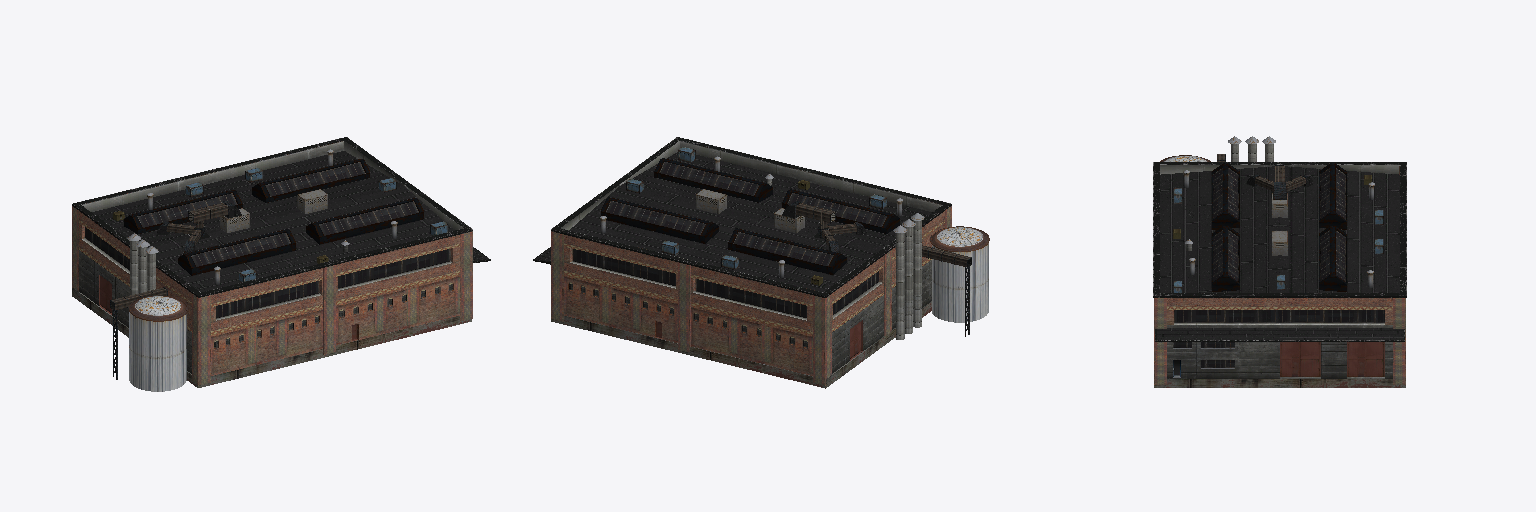
3 views of the same model, side by side, from view 1: azimuth 30°, elevation 25°; view 2: azimuth 150°, elevation 25°; view 3: azimuth 270°, elevation 25° (orthographic).
Parts seen in each view (by area): view 1: obj1, obj2; view 2: obj1, obj2; view 3: obj1, obj2.
Part boxes in pixels (x1,y1,x2,y2): obj1: (72,137,490,387); obj2: (110,233,187,391); obj1: (533,137,951,388); obj2: (893,213,989,339); obj1: (1153,162,1406,387); obj2: (1160,136,1275,161).
Bounding box in the file's own units: 56.99 × 18.77 × 36.15.
1 materials, 1 textured.